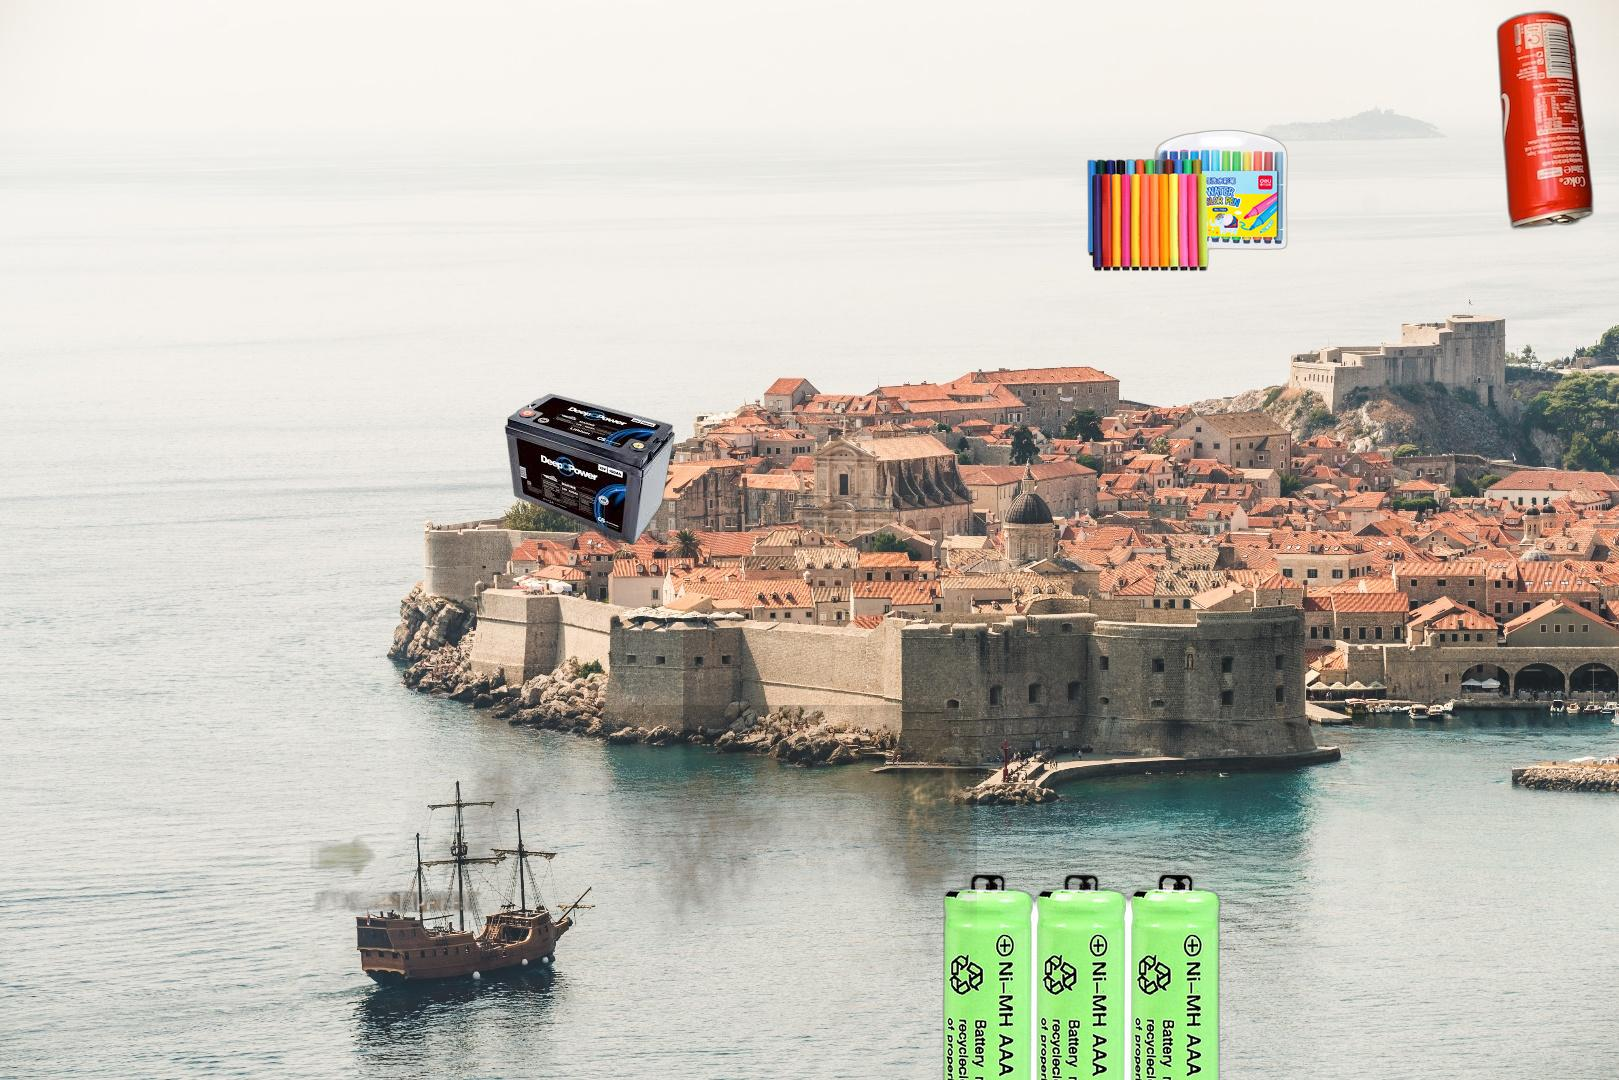battery: (935, 868, 1225, 1080), (501, 391, 677, 548)
metal-cans: (1492, 6, 1597, 235)
penholder: (1085, 127, 1290, 274)
trashbox-cardboard: (426, 705, 976, 1080), (190, 636, 684, 1010)
